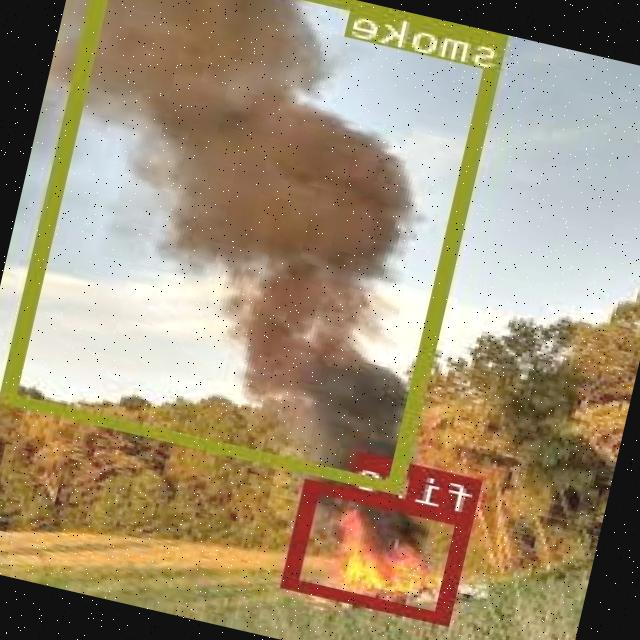fire: (285, 478, 476, 624)
smoke: (4, 0, 511, 494)
